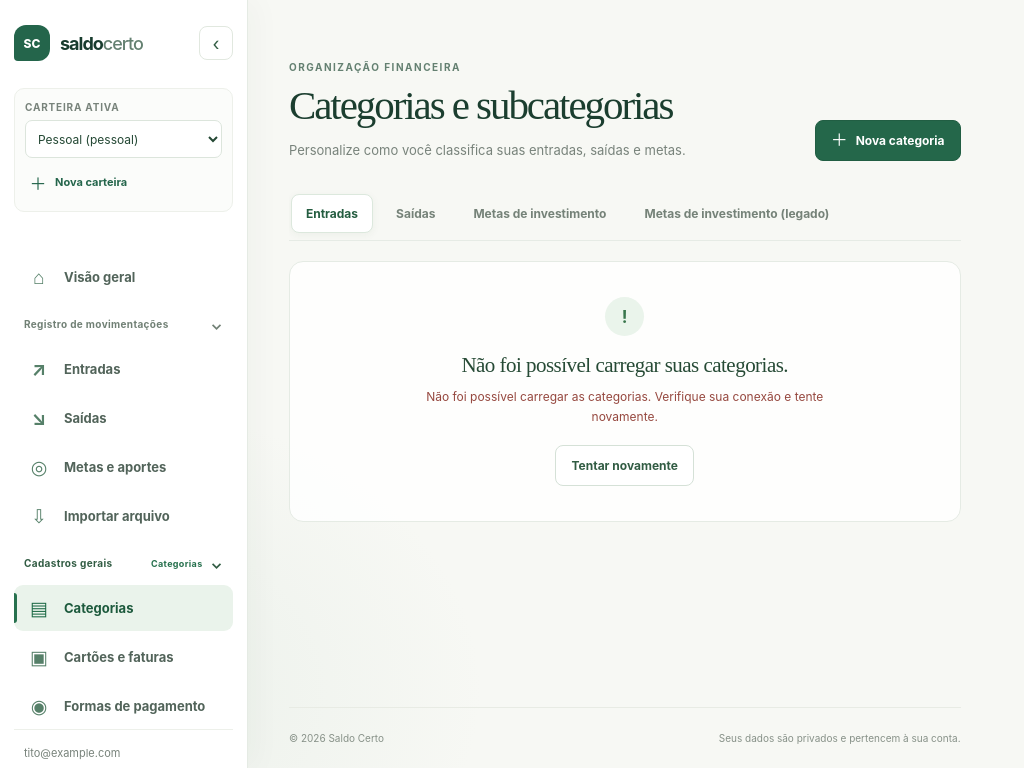
Test: CategoriesPage duplicate names › shows a recoverable error when categories cannot be loaded
This screenshot has width=1024, height=768.
Expected: the dropdown labelled "Carteira ativa" is shown, [25,120,222,158]
Expected: the message shows "Não foi possível carregar as categorias.", [426,389,823,424]
Click the button "Tentar novamente".
click(625, 465)  # box [556,445,694,486]
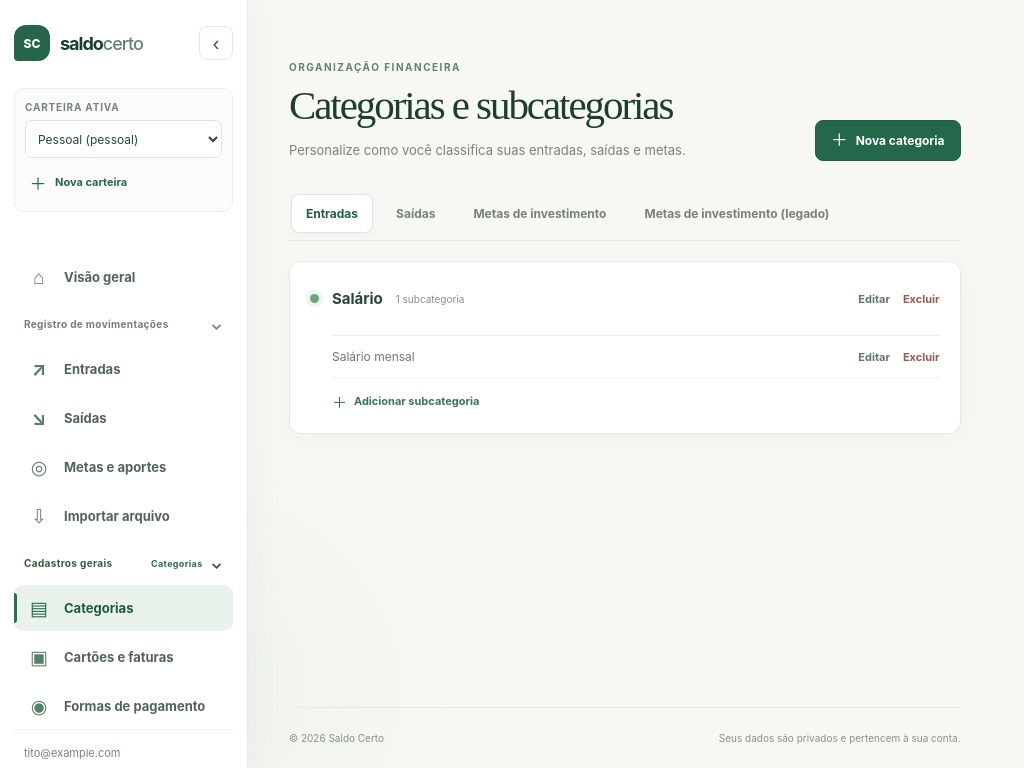
Now the heading "Salário" is shown, box [332,289,383,308]
